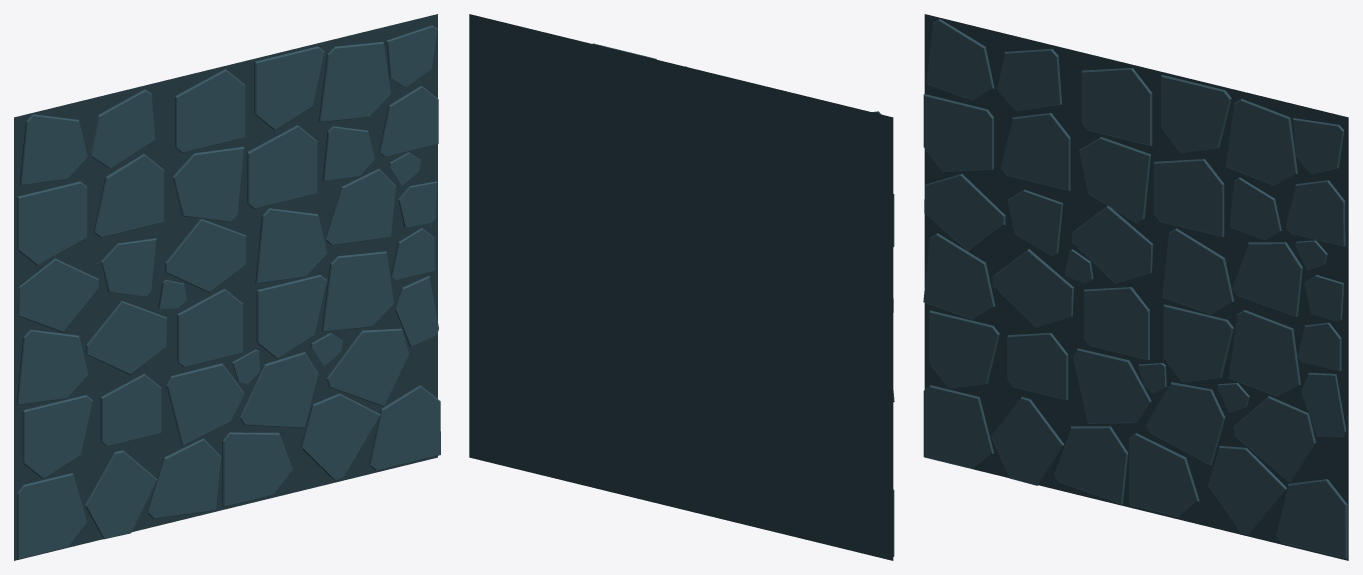
File: Wall.fbx
The picture shows the model from 3 angles, left to right: view 1: azimuth 30°, elevation 25°; view 2: azimuth 150°, elevation 25°; view 3: azimuth 330°, elevation 25°; orthographic projection.
Visible parts, largest first — view 1: Wall 1; view 2: Wall 1; view 3: Wall 1.
Part boxes in pixels (box(x1,y1,x2,y2)): Wall 1: box(14, 14, 440, 560); Wall 1: box(469, 14, 894, 560); Wall 1: box(923, 14, 1348, 560).
Size of the model in its own units: 246 by 20017 by 20034.
